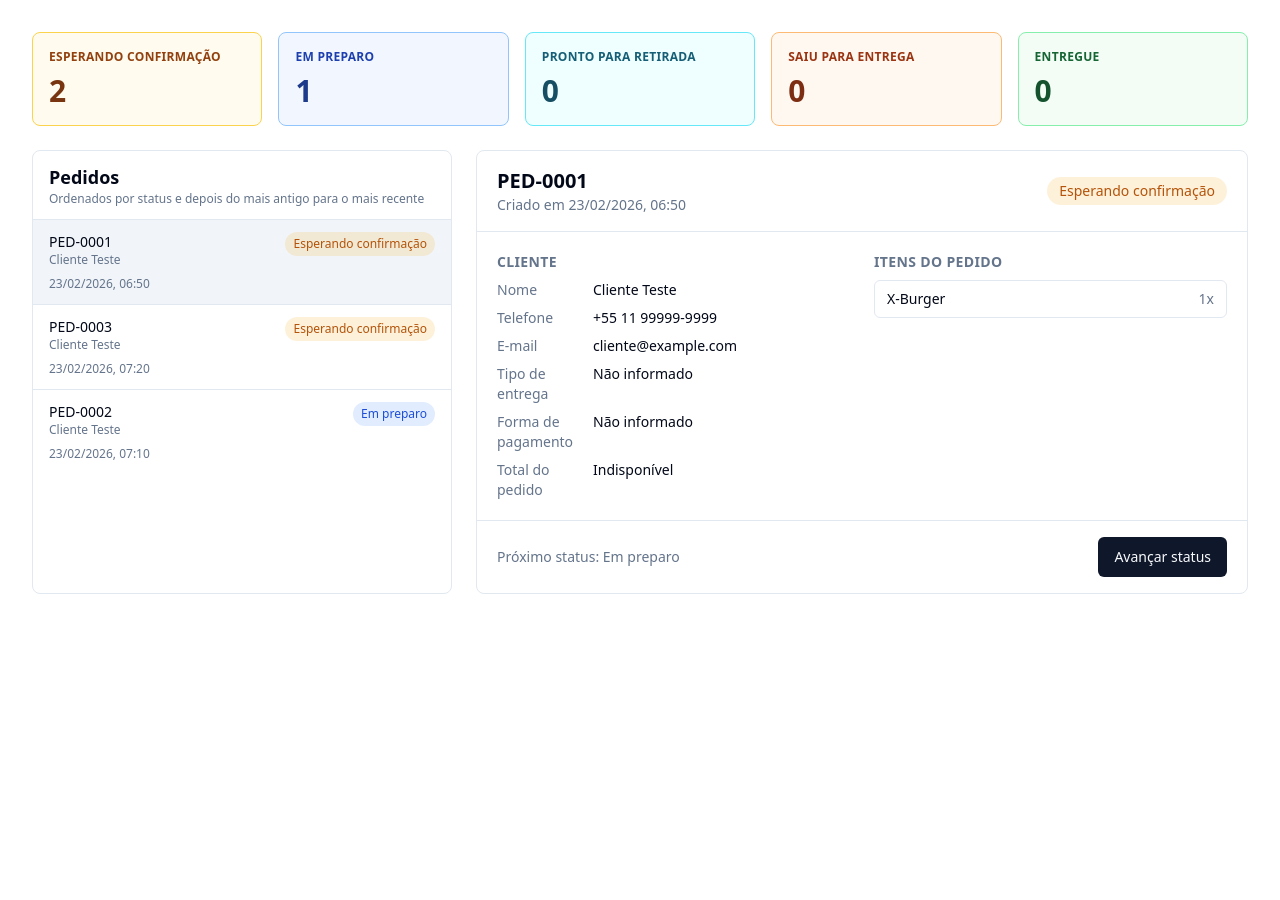
Test: AdminOrdersDashboard (Employee Orders Dashboard) › progresses from the mobile accordion and reorders the list by status priority (brief: mobile progress + reorder)
Click the button "PED-0001" at (81, 242), box [33, 220, 451, 304]
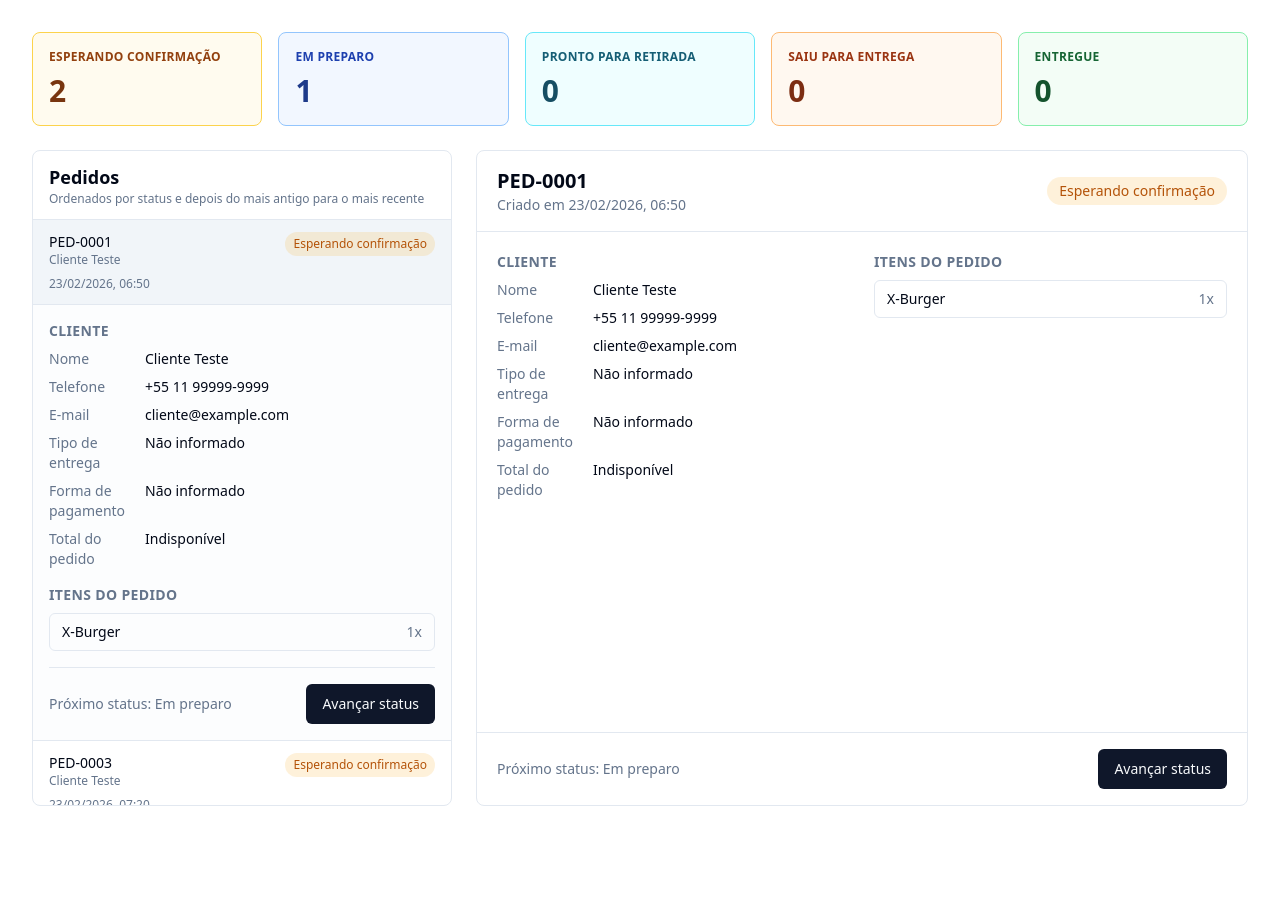
Expected: the list item "PED-0001" is shown, [33, 220, 451, 741]
Click the 1st button "Avançar status" at (371, 704), box [306, 684, 435, 724]
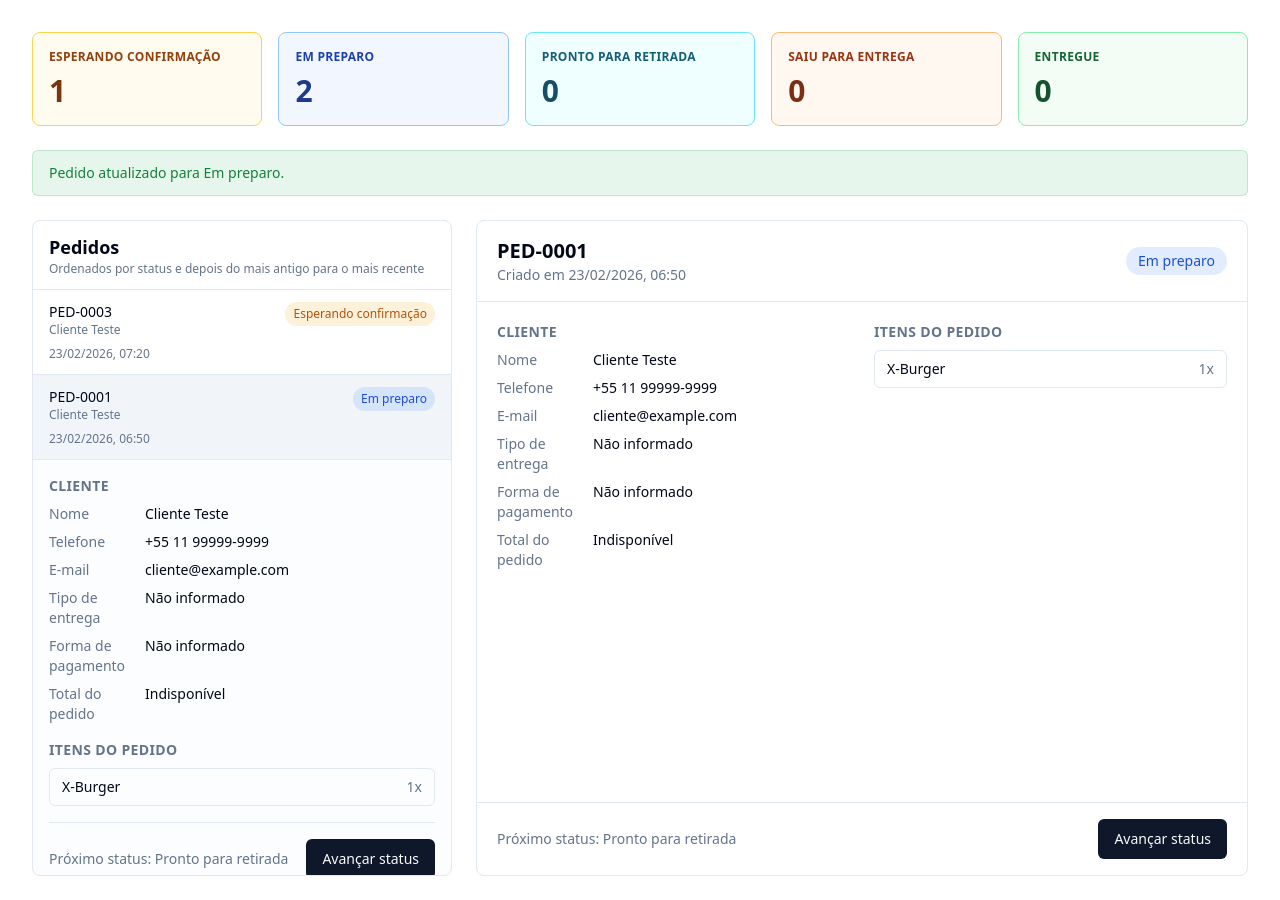
Expected: the text "Pedido atualizado para Em preparo." is shown, [32, 150, 1248, 196]
